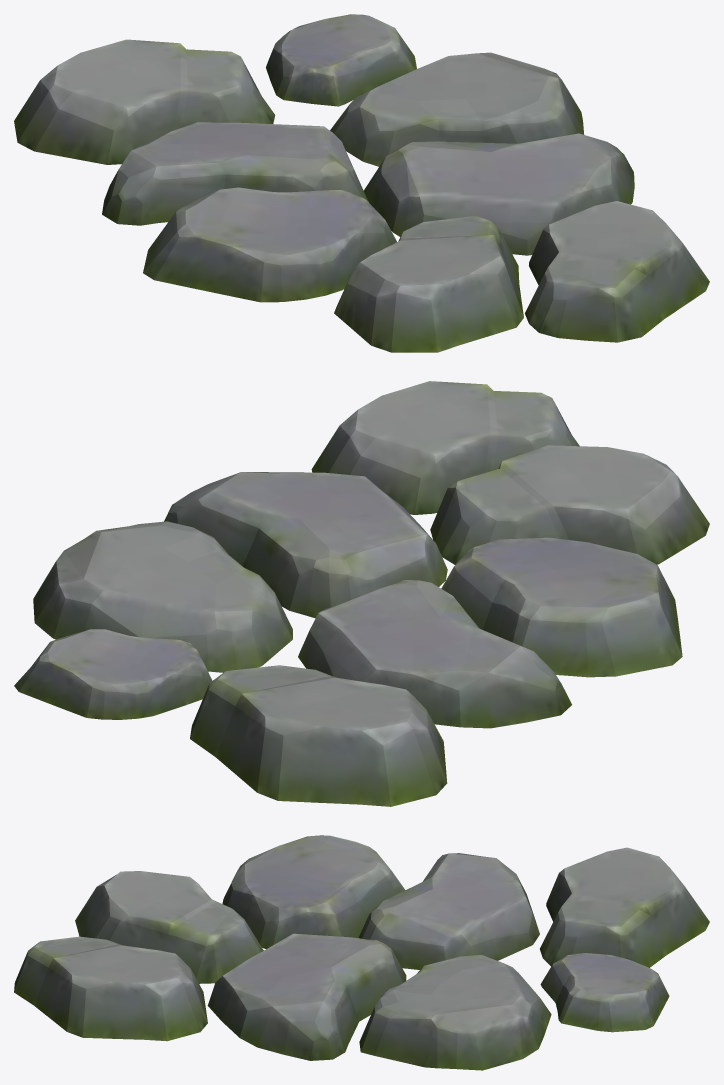
The model's file is sn_rock_path_round_small_1.glb.
The picture shows the model from 3 angles, top to bottom: view 1: azimuth 30°, elevation 25°; view 2: azimuth 150°, elevation 25°; view 3: azimuth 270°, elevation 25°; orthographic projection. The views are drawn at different scales.
Visible parts, largest first — view 1: RockPath_Round_Small_1; view 2: RockPath_Round_Small_1; view 3: RockPath_Round_Small_1.
Boxes of the visible parts, x1,y1,x2,y2 form: RockPath_Round_Small_1: (14,14,709,352); RockPath_Round_Small_1: (14,381,709,806); RockPath_Round_Small_1: (14,835,709,1070).
Size of the model in its own units: 1.06 by 0.1128 by 1.48.
Materials: 1 (1 with a texture image).
